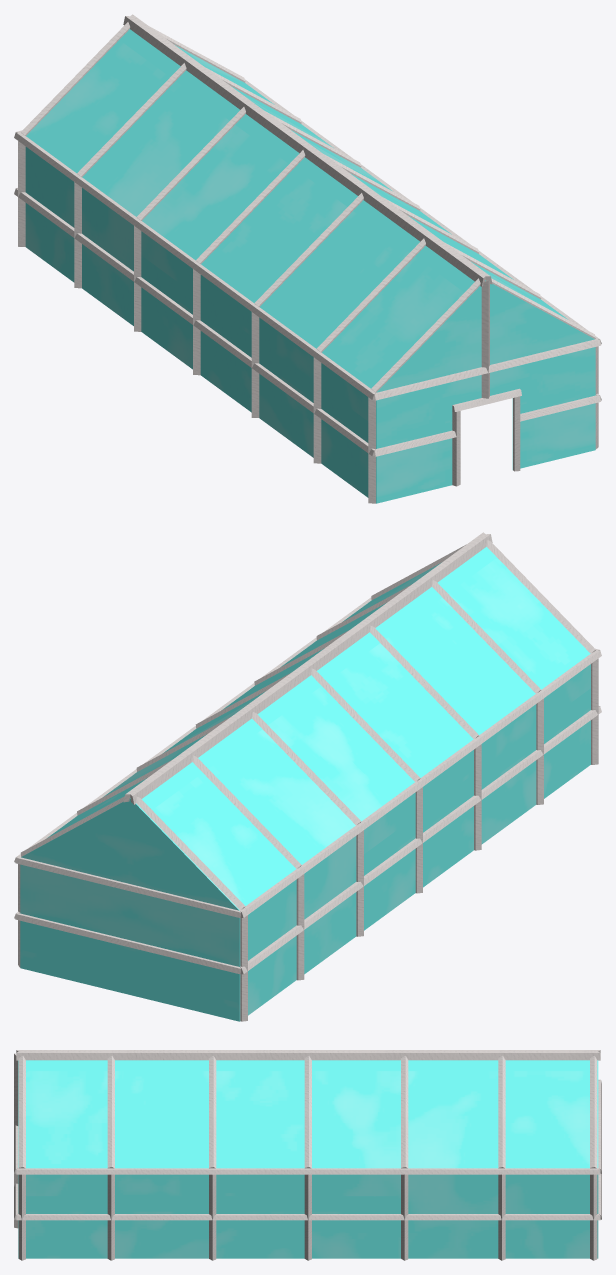
Rendered from GrennHouse.fbx.
3 renders of one model, top to bottom at view 1: azimuth 30°, elevation 25°; view 2: azimuth 150°, elevation 25°; view 3: azimuth 270°, elevation 25°, orthographic. The views are drawn at different scales.
Parts seen in each view (by area): view 1: GrennHouse; view 2: GrennHouse; view 3: GrennHouse.
Part boxes in pixels (x1=…): GrennHouse: x1=14, y1=14, x2=601, y2=503; GrennHouse: x1=14, y1=532, x2=601, y2=1021; GrennHouse: x1=14, y1=1050, x2=601, y2=1260.
Size of the model in its own units: 24.74 by 20.61 by 67.17.
